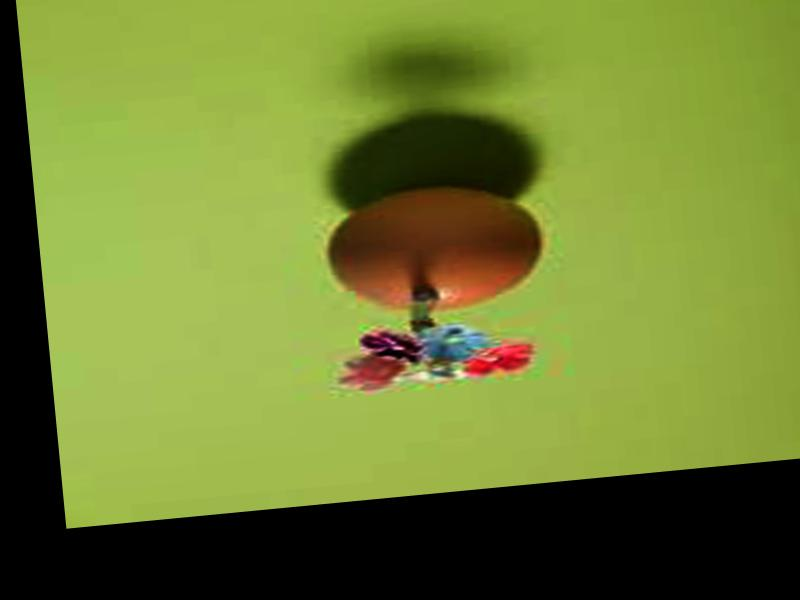Eggs: (323, 176, 544, 318)
